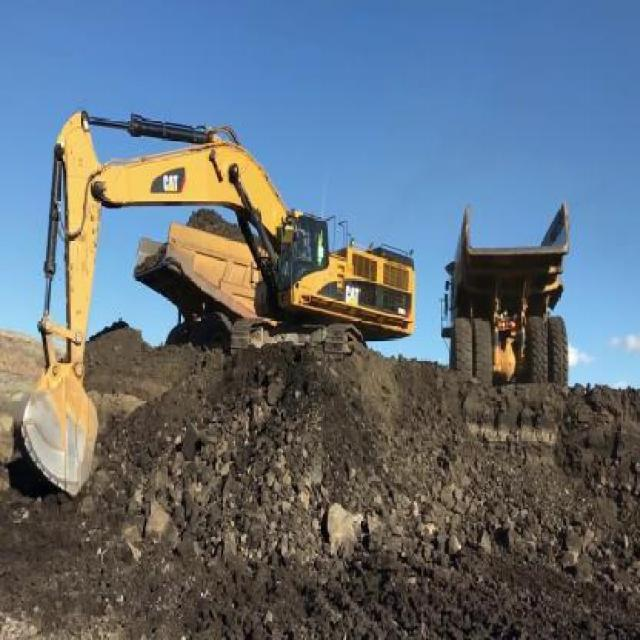Dump Truck: (435, 199, 577, 387), (145, 218, 252, 345)
Excavator: (10, 103, 416, 508)
